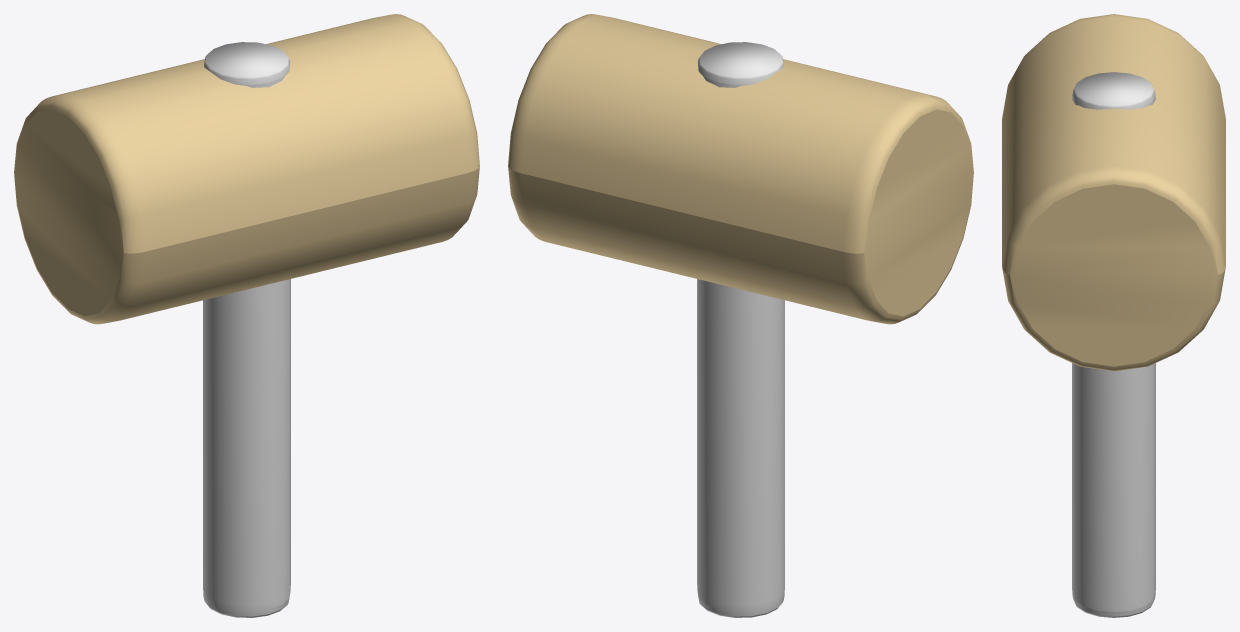
File: Hammer.glb
3 views of the same model, side by side, from view 1: azimuth 30°, elevation 25°; view 2: azimuth 150°, elevation 25°; view 3: azimuth 270°, elevation 25° (orthographic). The views are drawn at different scales.
Visible parts, largest first — view 1: Hammer; view 2: Hammer; view 3: Hammer.
Boxes of the visible parts, left/top/right/bottom form: Hammer: left=14, top=14, right=479, bottom=617; Hammer: left=508, top=14, right=973, bottom=617; Hammer: left=1002, top=14, right=1225, bottom=617.
Bounding box in the file's own units: 0.14 × 0.2022 × 0.08.
